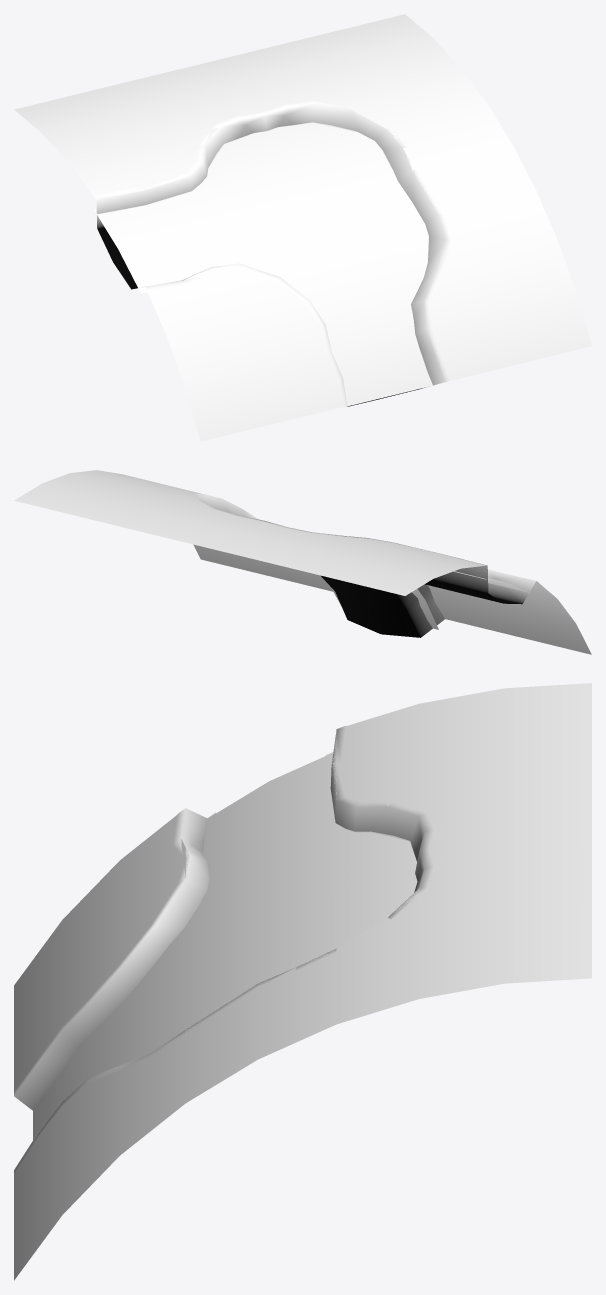
File: grd_Res_P_0.dae
3 renders of one model, top to bottom at view 1: azimuth 30°, elevation 25°; view 2: azimuth 150°, elevation 25°; view 3: azimuth 270°, elevation 25°, orthographic. The views are drawn at different scales.
Parts seen in each view (by area): view 1: grass_1_0, river_2_0, cliff_river_0_0, river_edge_3_0; view 2: grass_1_0, cliff_river_0_0, river_2_0; view 3: grass_1_0, river_2_0, cliff_river_0_0, river_edge_3_0.
Part boxes in pixels (x1,y1,x2,y2): grass_1_0: (14, 14, 591, 441); river_2_0: (94, 123, 432, 405); cliff_river_0_0: (93, 100, 452, 407); river_edge_3_0: (94, 122, 438, 407); grass_1_0: (14, 470, 591, 654); cliff_river_0_0: (193, 493, 538, 637); river_2_0: (331, 571, 531, 629); grass_1_0: (14, 683, 591, 1280); river_2_0: (33, 753, 416, 1139); cliff_river_0_0: (14, 726, 433, 1173); river_edge_3_0: (33, 752, 417, 1114).
Bounding box in the file's own units: 512 × 264 × 423.
4 materials, 1 textured.
